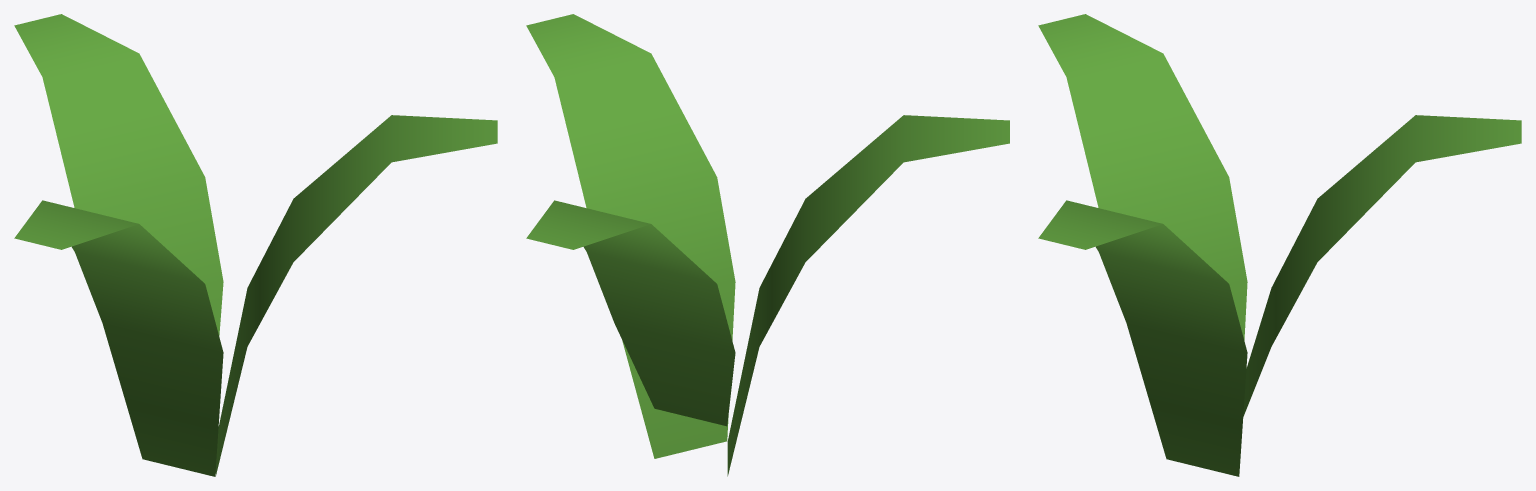
File: grass01.glb
3 renders of one model, left to right at view 1: azimuth 30°, elevation 25°; view 2: azimuth 150°, elevation 25°; view 3: azimuth 270°, elevation 25°, orthographic.
Visible parts, largest first — view 1: Plane.002; view 2: Plane.002; view 3: Plane.002.
Boxes of the visible parts, x1,y1,x2,y2 form: Plane.002: (14, 14, 497, 476); Plane.002: (526, 14, 1009, 476); Plane.002: (1038, 14, 1521, 476).
Size of the model in its own units: 0.2915 by 0.1884 by 0.2524.
